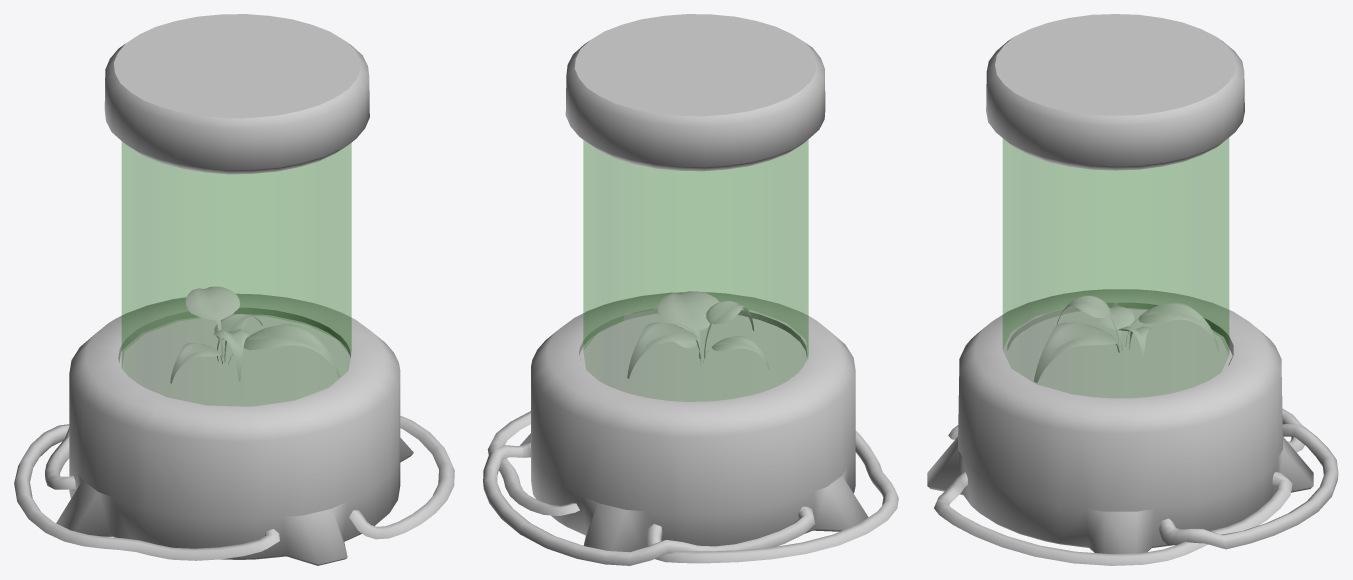
File: incubator.obj
3 views of the same model, side by side, from view 1: azimuth 30°, elevation 25°; view 2: azimuth 150°, elevation 25°; view 3: azimuth 270°, elevation 25° (orthographic). The views are drawn at different scales.
Visible parts, largest first — view 1: incubator, Plants; view 2: incubator, Plants; view 3: incubator, Plants.
Part boxes in pixels (<box>): incubator: <box>14,14,454,565</box>; Plants: <box>170,286,340,383</box>; incubator: <box>483,14,898,565</box>; Plants: <box>627,291,769,378</box>; incubator: <box>927,14,1338,565</box>; Plants: <box>1033,295,1218,382</box>.
Bounding box in the file's own units: 2.7 × 2.85 × 2.54.
